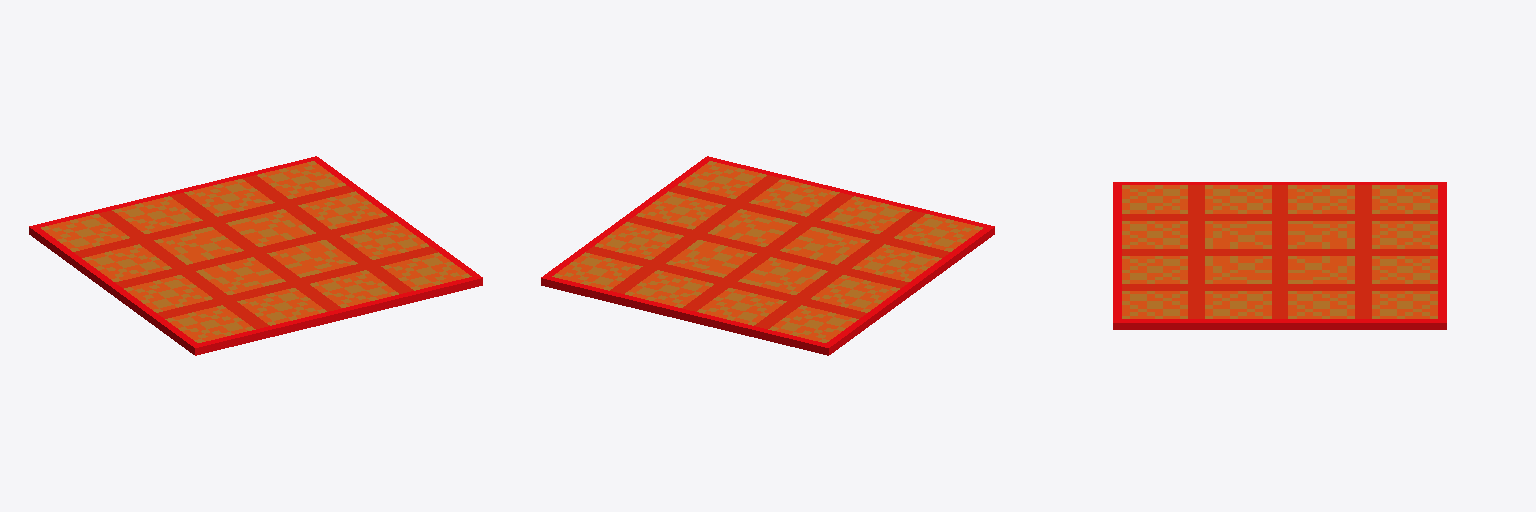
3 views of the same model, side by side, from view 1: azimuth 30°, elevation 25°; view 2: azimuth 150°, elevation 25°; view 3: azimuth 270°, elevation 25° (orthographic).
Parts seen in each view (by area): view 1: object 1; view 2: object 1; view 3: object 1.
Boxes of the visible parts, x1=… form: object 1: x1=29, y1=156, x2=482, y2=355; object 1: x1=541, y1=156, x2=994, y2=355; object 1: x1=1113, y1=182, x2=1446, y2=329.
Size of the model in its own units: 4 by 0.1 by 4.
1 materials, 1 textured.